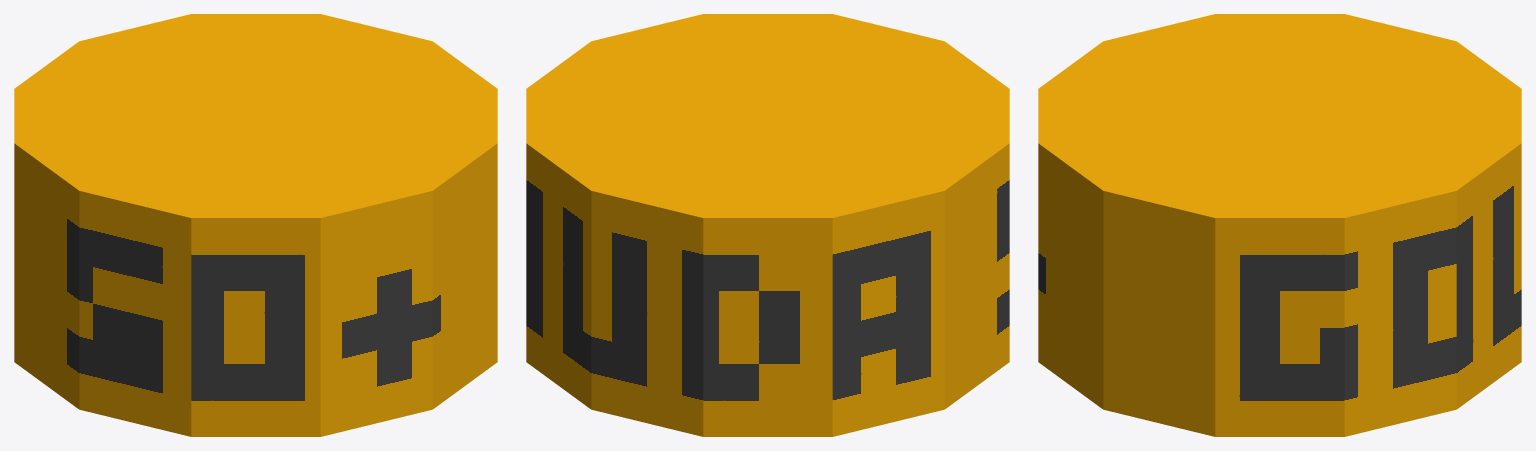
File: cheese_block.obj
3 views of the same model, side by side, from view 1: azimuth 30°, elevation 25°; view 2: azimuth 150°, elevation 25°; view 3: azimuth 270°, elevation 25° (orthographic).
Visible parts, largest first — view 1: cylinder; view 2: cylinder; view 3: cylinder.
Part boxes in pixels (<box>): cylinder: <box>14,14,497,436</box>; cylinder: <box>526,14,1009,436</box>; cylinder: <box>1038,14,1521,436</box>.
Bounding box in the file's own units: 0.75 × 0.375 × 0.75.
